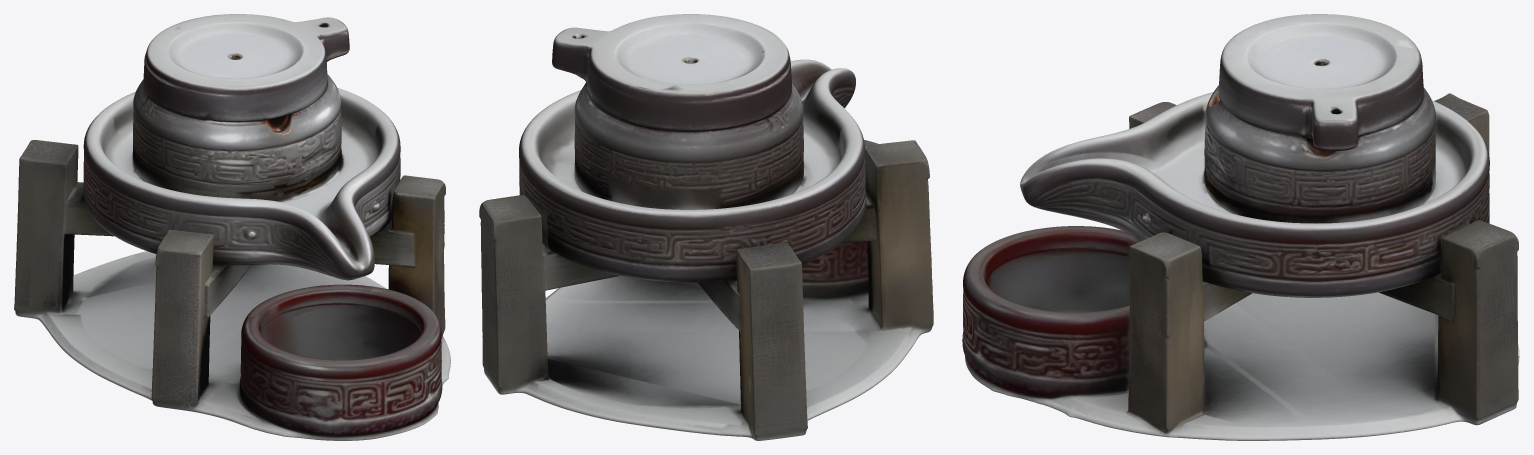
Rendered from japan-clouds-alt.glb.
The picture shows the model from 3 angles, left to right: view 1: azimuth 30°, elevation 25°; view 2: azimuth 150°, elevation 25°; view 3: azimuth 270°, elevation 25°; orthographic projection. The views are drawn at different scales.
Visible parts, largest first — view 1: node_0; view 2: node_0; view 3: node_0.
Boxes of the visible parts, bbox=[...] form: node_0: bbox=[14, 14, 450, 440]; node_0: bbox=[479, 14, 933, 440]; node_0: bbox=[962, 14, 1519, 440].
Size of the model in its own units: 0.7027 by 0.5902 by 0.9676.
Materials: 1 (1 with a texture image).
